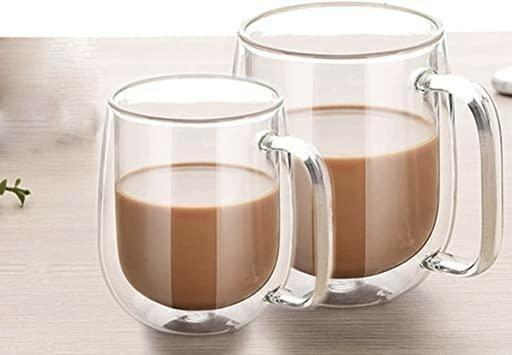glass-mug: (225, 0, 512, 317), (98, 70, 339, 343)
